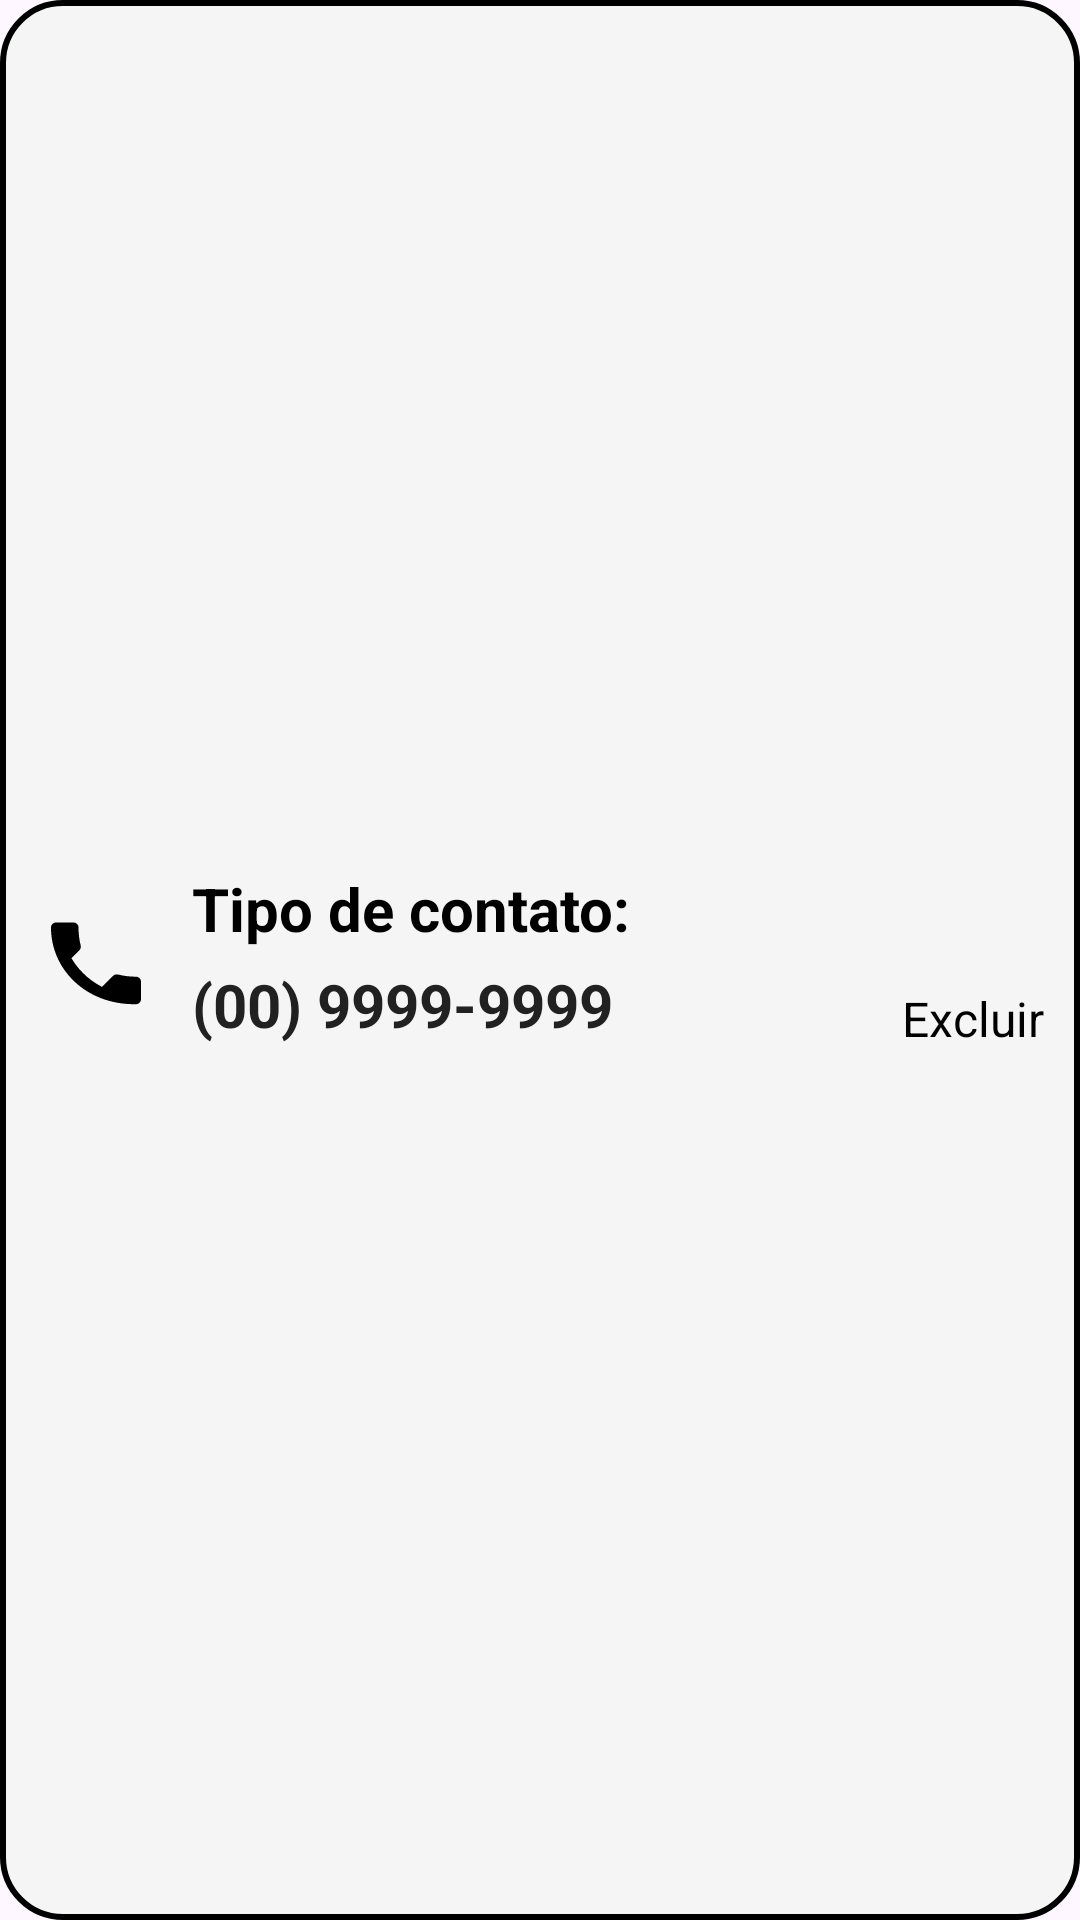

Icon bounding boxes for this 1080px×1920px phone screenshot, format (x1, y1, x2, y2):
tell: (51, 922, 141, 1005)
